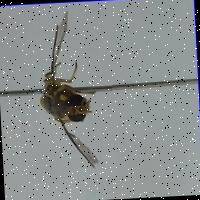Oriental-fruit-fly: (30, 7, 116, 180)
